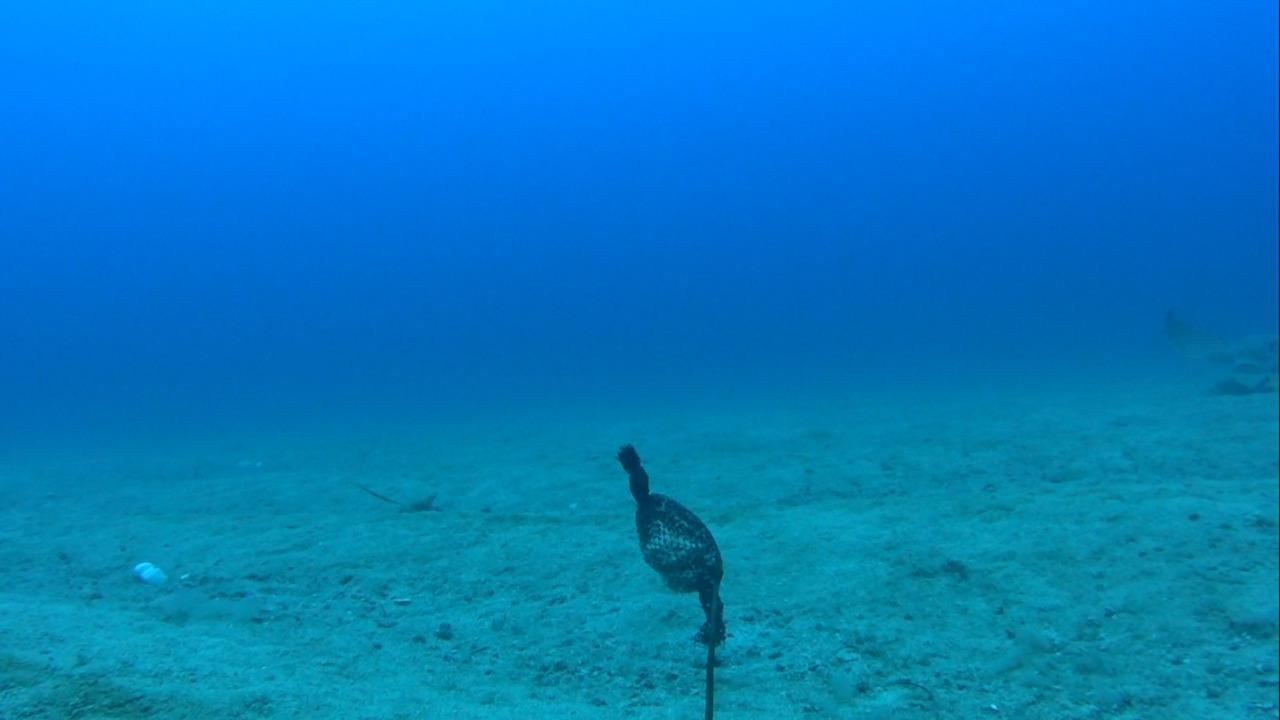myliobatis: (1145, 299, 1279, 381)
